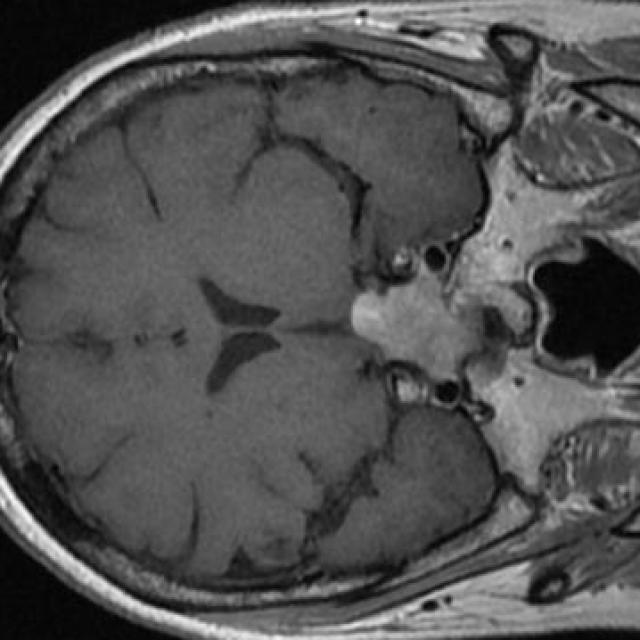pituitary: (349, 264, 478, 382)
